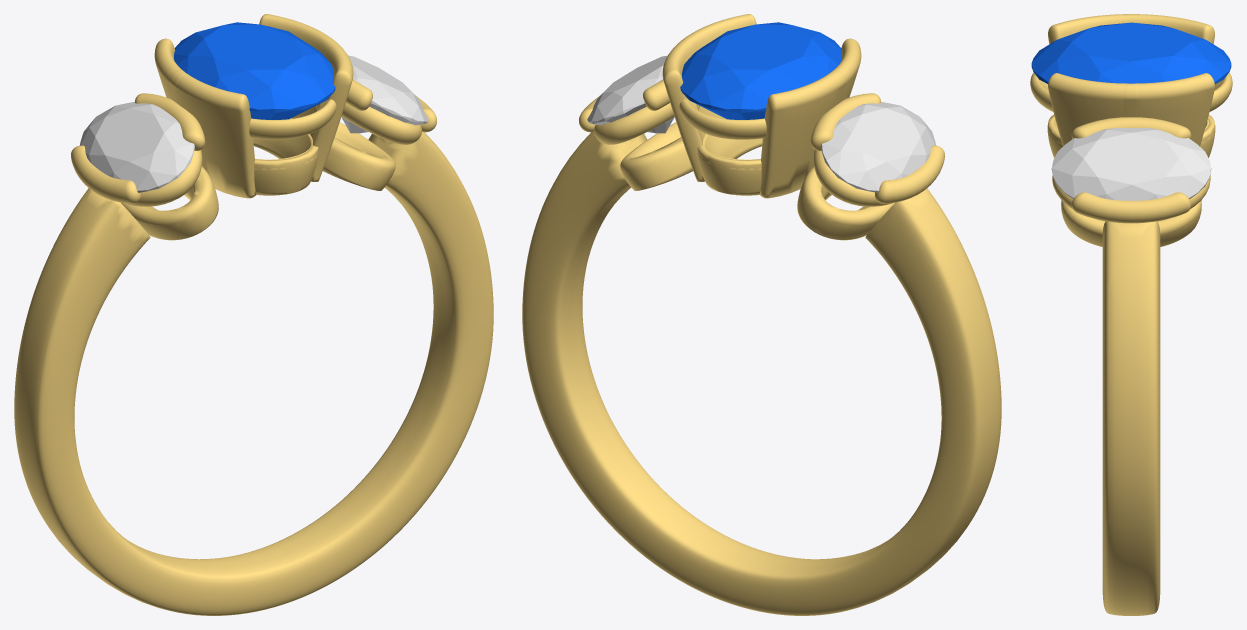
File: bluesapphire-oval-yellowgold-halfmoonbezel-straightband-3stone.glb
The picture shows the model from 3 angles, left to right: view 1: azimuth 30°, elevation 25°; view 2: azimuth 150°, elevation 25°; view 3: azimuth 270°, elevation 25°; orthographic projection.
Parts seen in each view (by area): view 1: metal, stone.003, side.006, side.007; view 2: metal, stone.003, side.006, side.007; view 3: metal, side.007, stone.003.
Part boxes in pixels (<box>): metal: <box>14,14,493,615</box>; stone.003: <box>174,22,335,119</box>; side.006: <box>80,101,194,192</box>; side.007: <box>341,55,428,133</box>; metal: <box>522,14,1001,615</box>; stone.003: <box>680,22,841,119</box>; side.006: <box>821,101,935,192</box>; side.007: <box>587,55,674,133</box>; metal: <box>1030,14,1232,615</box>; side.007: <box>1051,128,1211,200</box>; stone.003: <box>1031,22,1231,83</box>.
Size of the model in its own units: 20.11 by 23.21 by 7.75.
